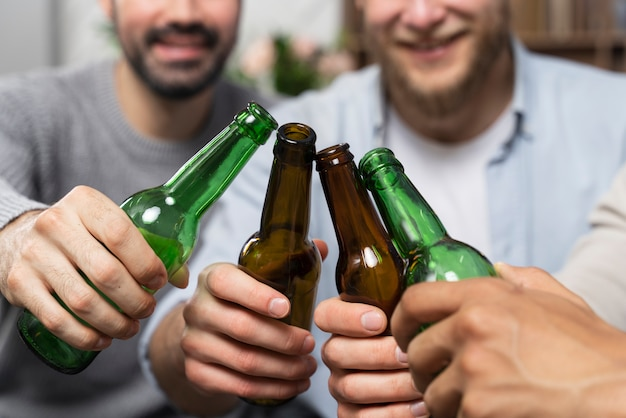alcohol: (16, 101, 277, 375), (356, 147, 564, 418), (314, 143, 446, 418), (237, 122, 321, 409)
